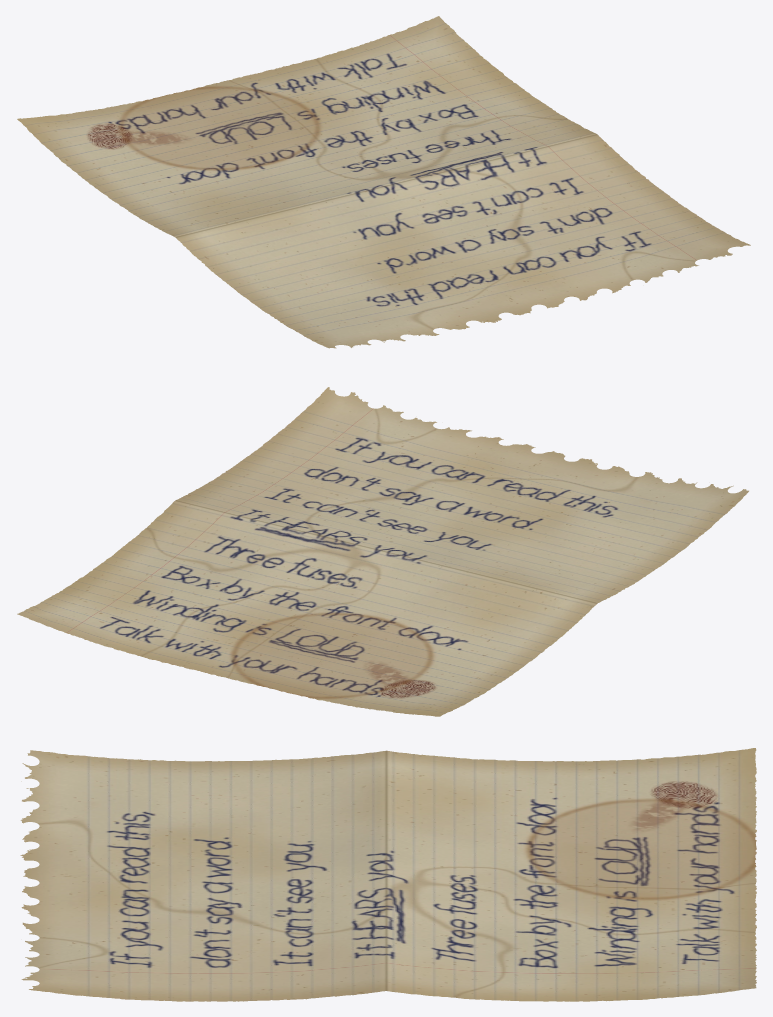
Rendered from note_tutorial.glb.
3 renders of one model, top to bottom at view 1: azimuth 30°, elevation 25°; view 2: azimuth 150°, elevation 25°; view 3: azimuth 270°, elevation 25°, orthographic. The views are drawn at different scales.
Parts seen in each view (by area): view 1: note_tutorial; view 2: note_tutorial; view 3: note_tutorial.
Boxes of the visible parts, left/top/right/bottom form: note_tutorial: left=17, top=16, right=750, bottom=348; note_tutorial: left=17, top=387, right=748, bottom=716; note_tutorial: left=20, top=748, right=756, bottom=1001.
Size of the model in its own units: 0.2 by 0.006 by 0.26.
1 material, 1 textured.
